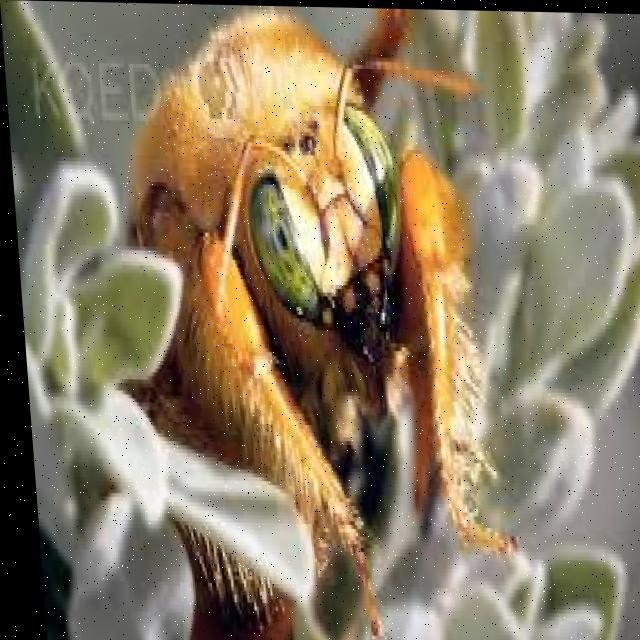Xylocopa: (66, 1, 522, 629)
